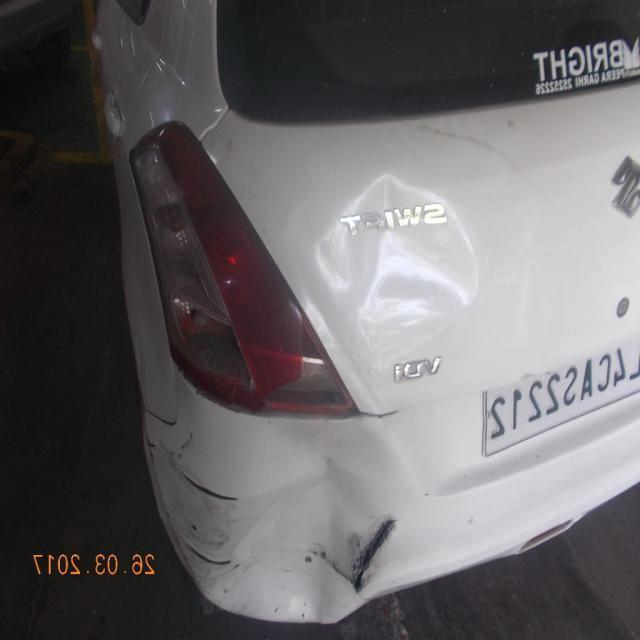minor: (296, 157, 493, 382)
moderate: (209, 422, 410, 623), (168, 529, 212, 584), (179, 474, 238, 506)
